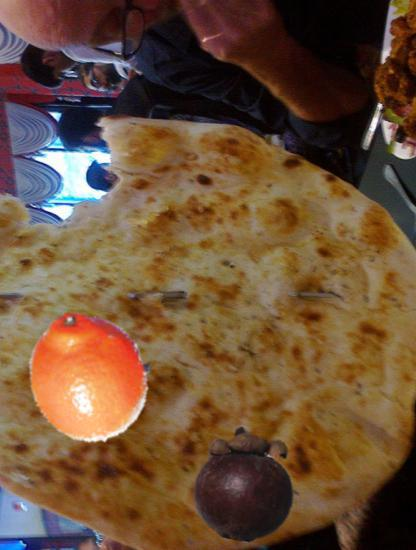Mangostan: (189, 429, 302, 542)
Tangelo: (23, 309, 158, 444)
